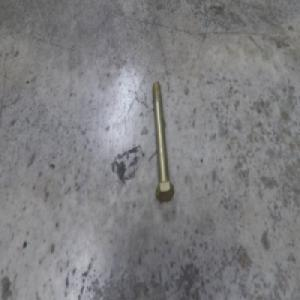Bolt: (149, 84, 173, 206)
